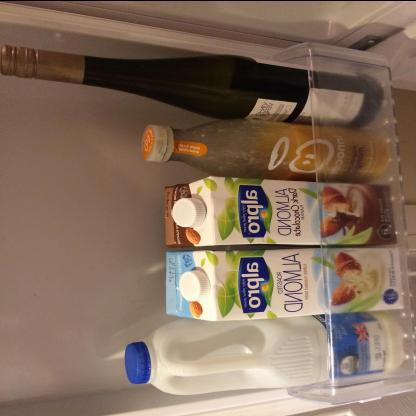cam: (3, 43, 386, 127), (141, 115, 392, 183)
karton: (164, 248, 407, 322), (161, 175, 397, 250)
plastik: (123, 309, 405, 400)
